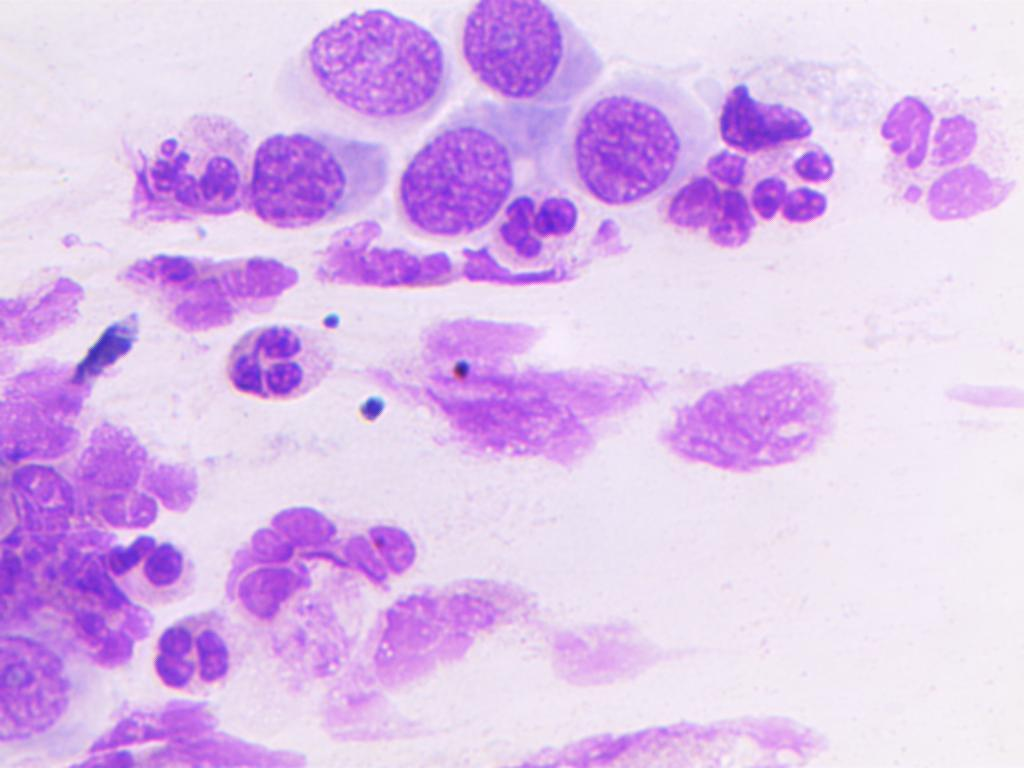artifact: (407, 329, 650, 461), (668, 351, 839, 481), (112, 252, 301, 329), (0, 346, 100, 466), (314, 218, 459, 292), (719, 79, 824, 160), (0, 263, 88, 352), (359, 394, 391, 421)
epithelial: (399, 98, 565, 246), (262, 3, 453, 123), (562, 68, 693, 216), (248, 118, 393, 236), (0, 619, 77, 758)
neutrophil: (871, 74, 1024, 224), (201, 509, 337, 636), (109, 108, 250, 230), (53, 449, 212, 532), (213, 316, 335, 409), (736, 136, 847, 228), (669, 142, 761, 249), (484, 190, 603, 272), (319, 514, 434, 597), (96, 534, 211, 610), (151, 610, 250, 693)
